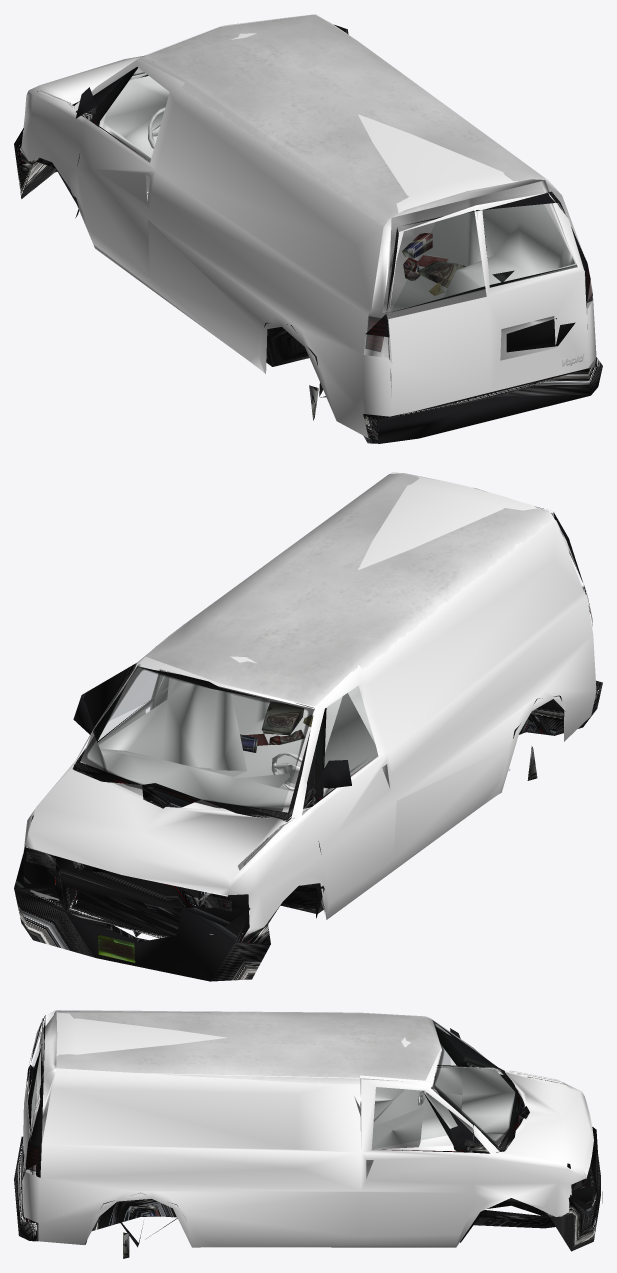
File: speedo-lod.glb
3 views of the same model, one above another, from view 1: azimuth 30°, elevation 25°; view 2: azimuth 150°, elevation 25°; view 3: azimuth 270°, elevation 25° (orthographic). The views are drawn at different scales.
Bounding box in the file's own units: 2.2 × 1.79 × 5.23.
Materials: 12 (10 with a texture image).
